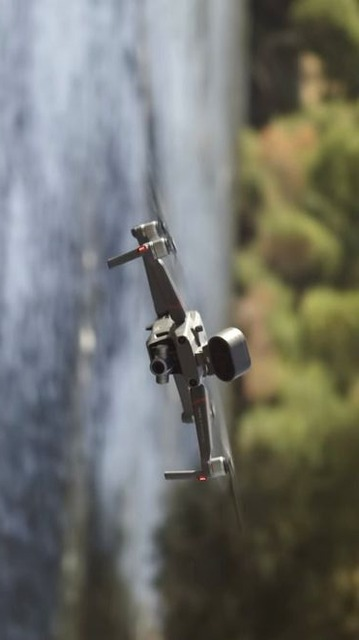drone: (105, 215, 252, 531)
